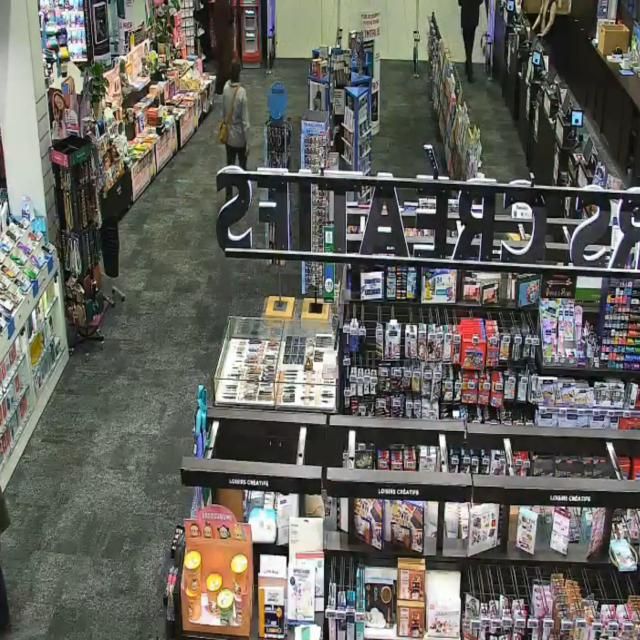bags: (219, 87, 238, 144)
hands: (246, 145, 250, 157)
person: (222, 59, 249, 169), (458, 0, 483, 81), (532, 0, 557, 37)
